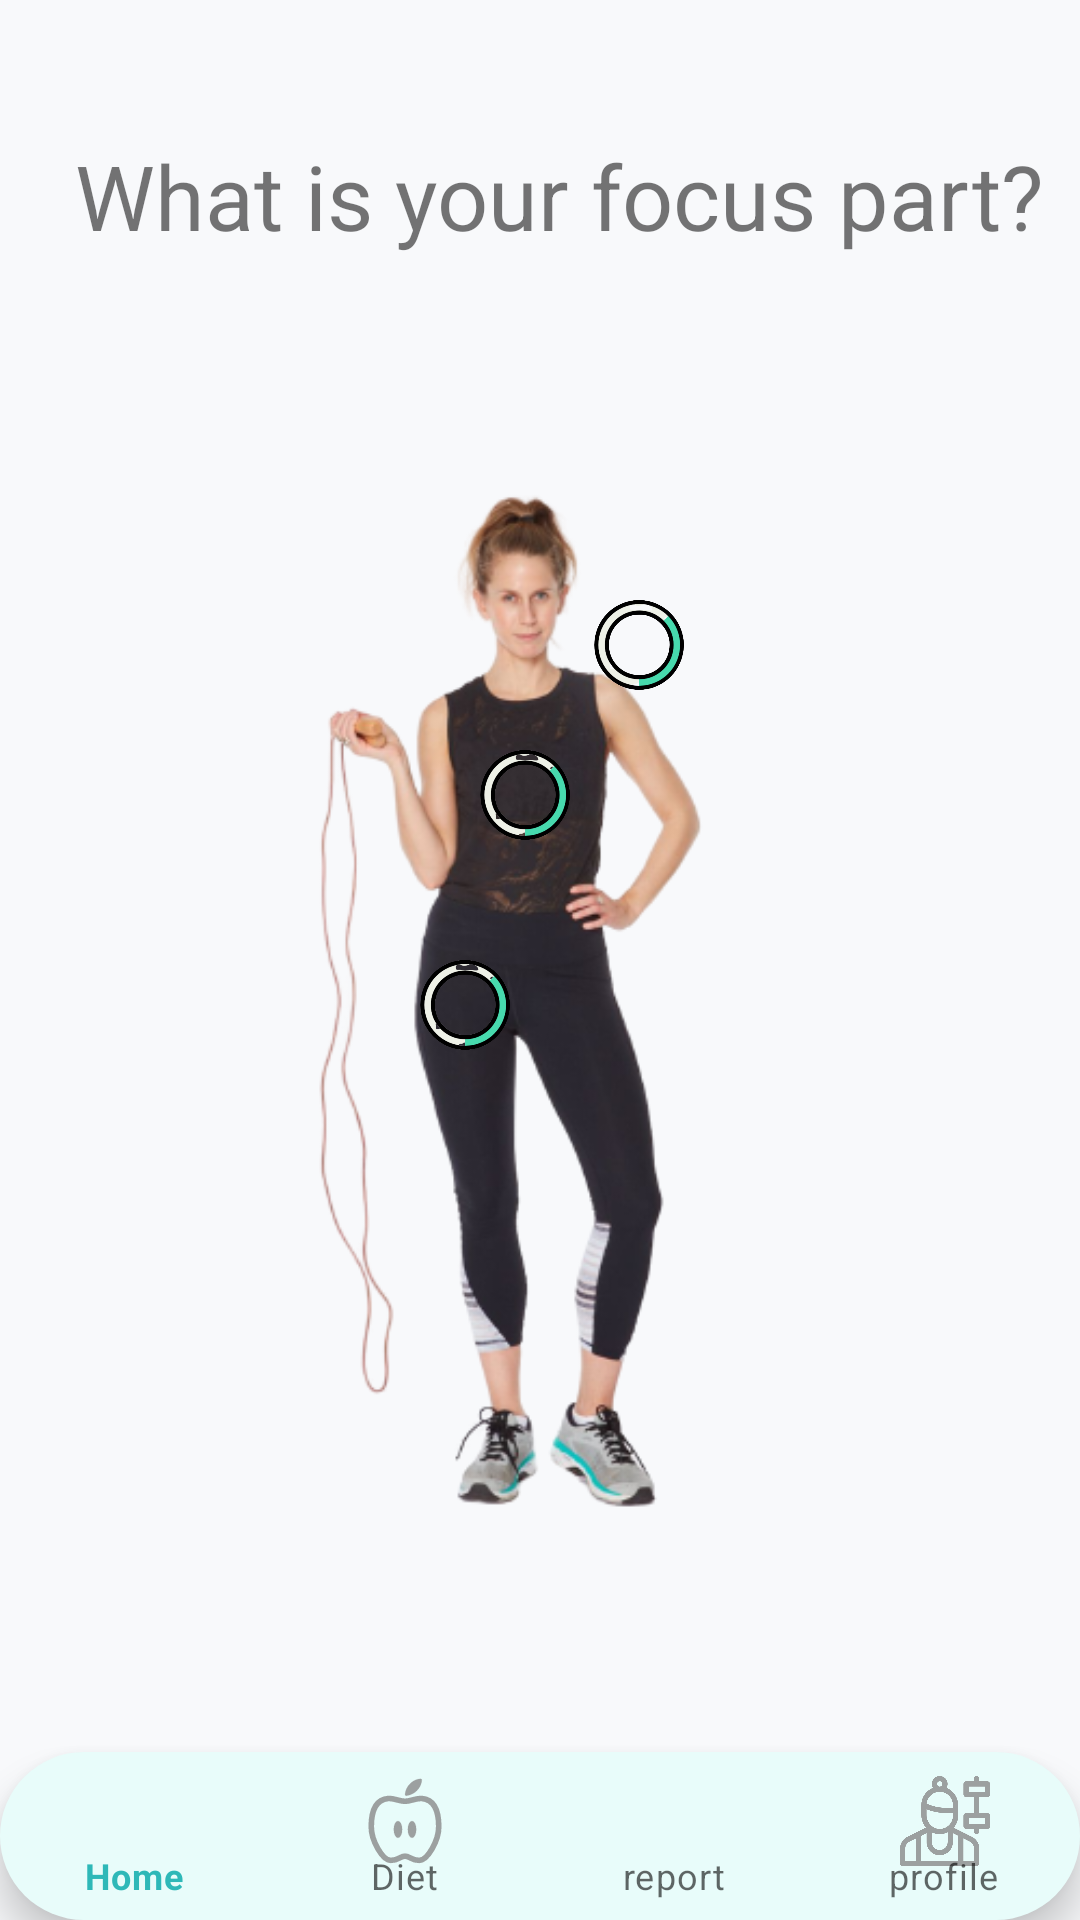

Icon bounding boxes for this 1080px×1920px phone screenshot, format {"x1": x1, "y1": y1, "x2": x2, "y2": y2}:
pointeer: {"x1": 594, "y1": 600, "x2": 684, "y2": 690}, {"x1": 480, "y1": 750, "x2": 570, "y2": 840}, {"x1": 420, "y1": 960, "x2": 510, "y2": 1050}
